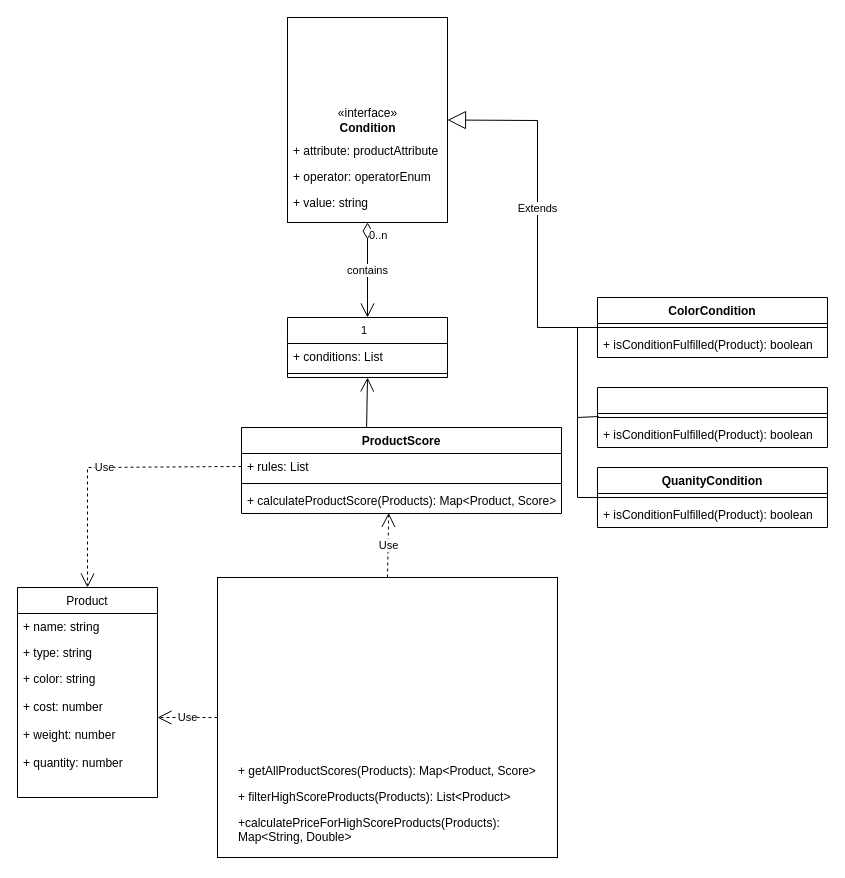
This 845x878 diagram has some shape labels left out. The shapes that lost their labels are listed below. From the top down, each one's box as (x1, y1, x2, y2) in pixels, then its label:
(286, 316, 448, 378): Rule
(596, 386, 828, 448): CostCondition
(216, 576, 558, 858): «interface» ProductBuyStrategy
